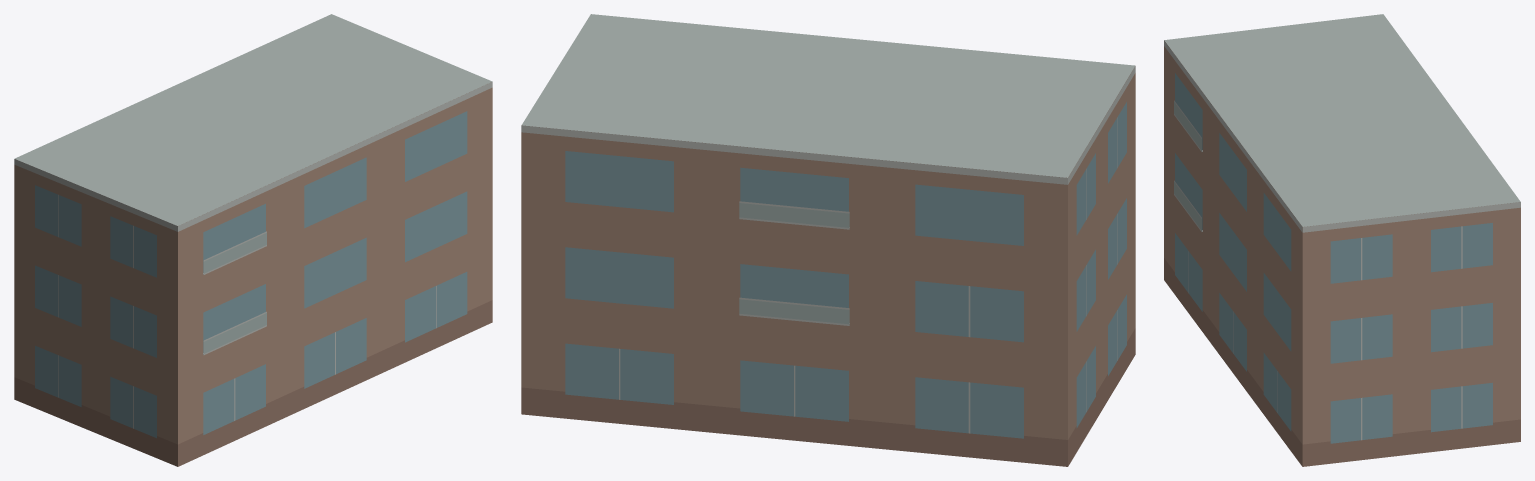
Rendered from survey-upis-32955519.glb.
3 renders of one model, left to right at view 1: azimuth 30°, elevation 25°; view 2: azimuth 150°, elevation 25°; view 3: azimuth 270°, elevation 25°, orthographic. The views are drawn at different scales.
Parts seen in each view (by area): view 1: survey-upis-32955519.tmp; view 2: survey-upis-32955519.tmp; view 3: survey-upis-32955519.tmp.
Boxes of the visible parts, x1,y1,x2,y2 form: survey-upis-32955519.tmp: [14, 14, 492, 466]; survey-upis-32955519.tmp: [521, 14, 1135, 466]; survey-upis-32955519.tmp: [1164, 14, 1520, 466].
Bounding box in the file's own units: 19.24 × 10.1 × 13.62.
